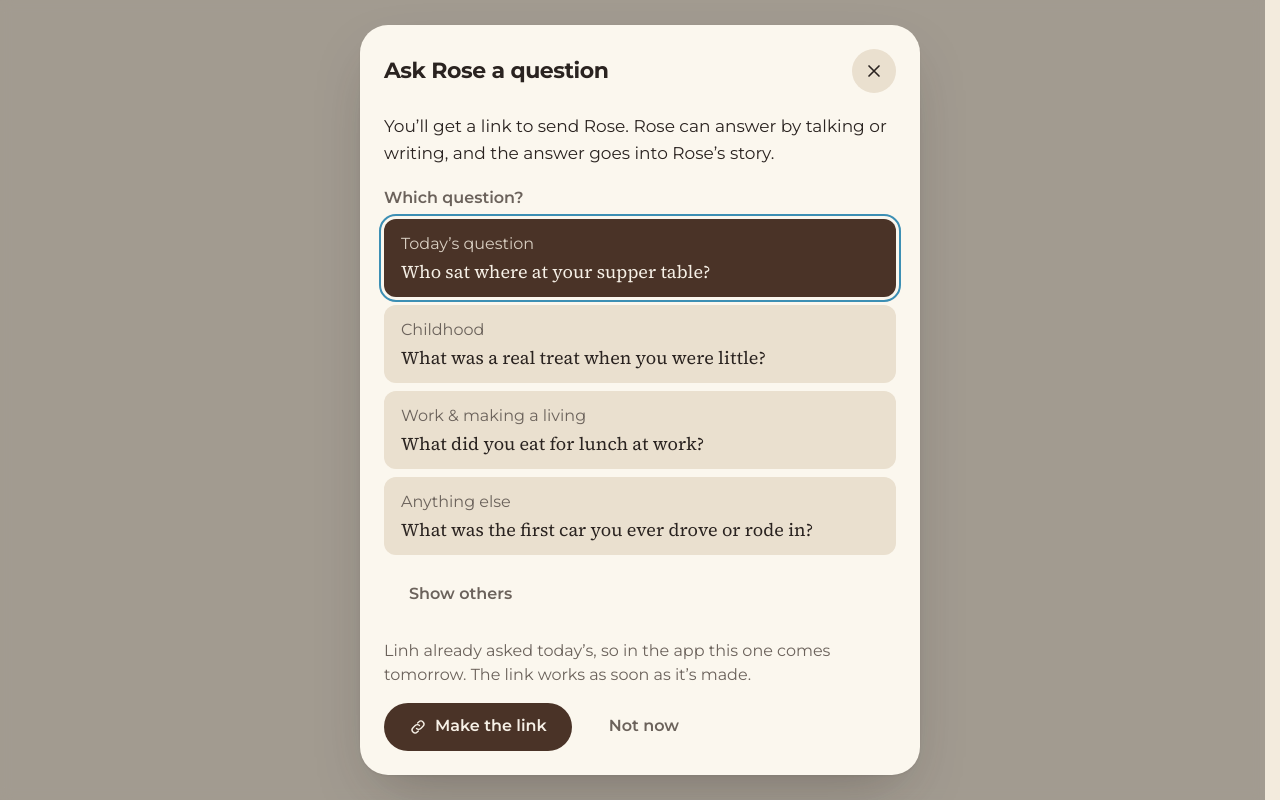
Test: AskSheet › says when somebody already has today, and what went wrong
Click the button "Make the link".
click(478, 727)  # box [384, 703, 572, 751]
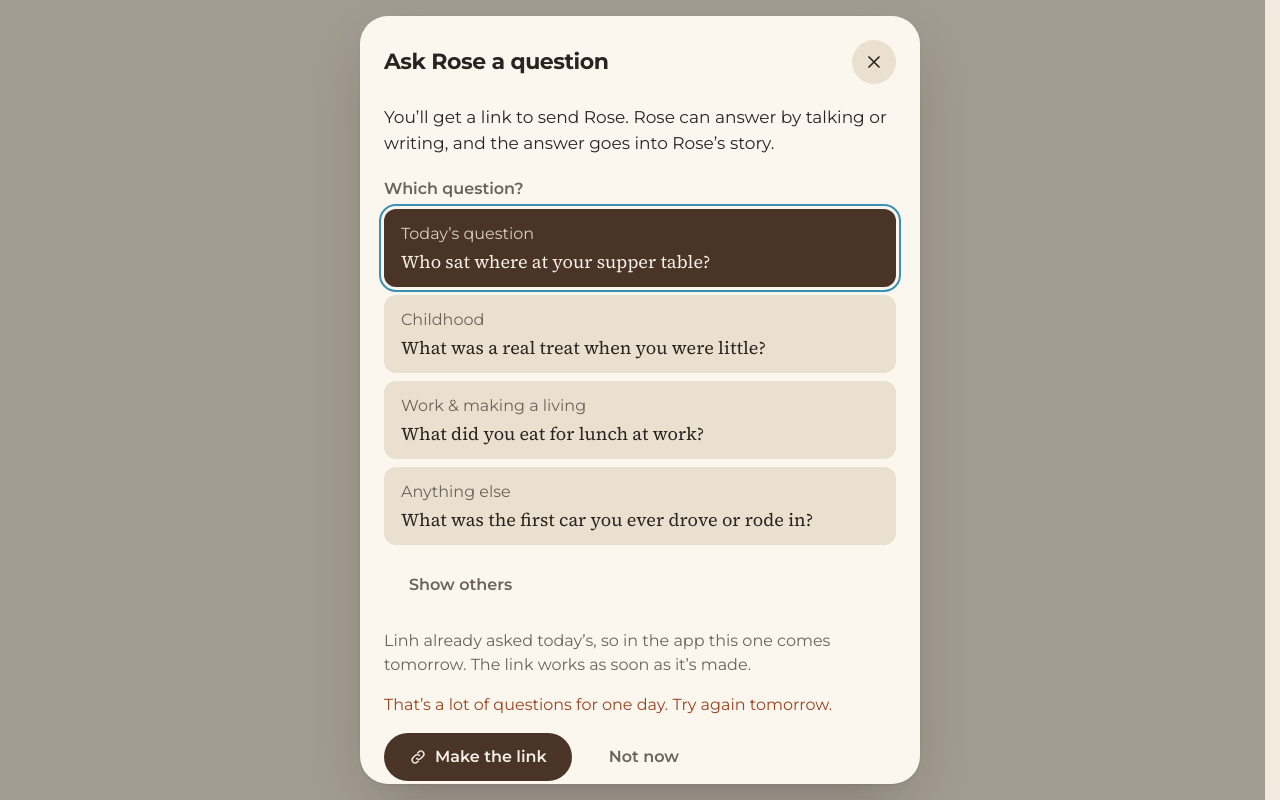
Expected: the message "That’s a lot of questions for one day. Try again tomorrow." is shown, [384, 693, 896, 717]
